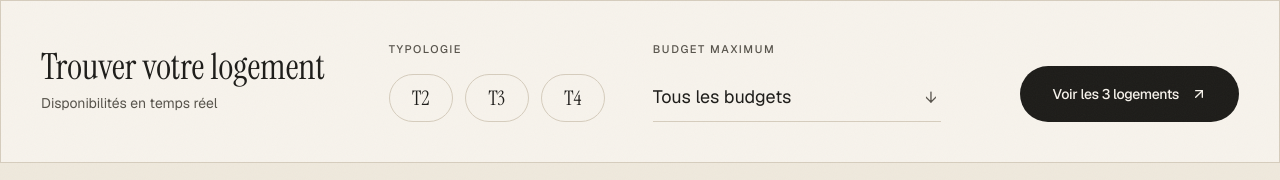
Test case: LotSearch › disables the search when nothing matches
Click the button "T4" at point(573, 98), box top-left (541, 74), bottom-right (605, 122)
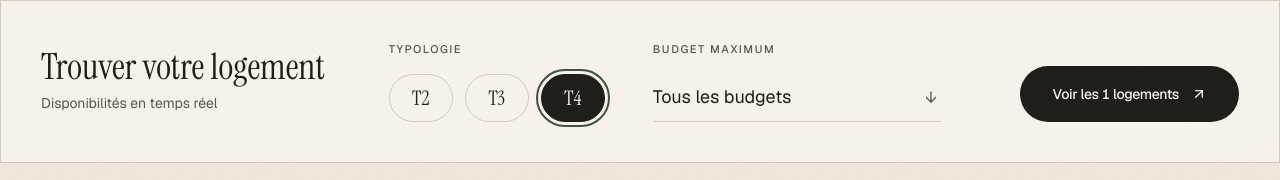
Select "Jusqu'à 200 000 €" in the dropdown labelled "Budget maximum" at point(797, 98), box top-left (653, 74), bottom-right (941, 122)
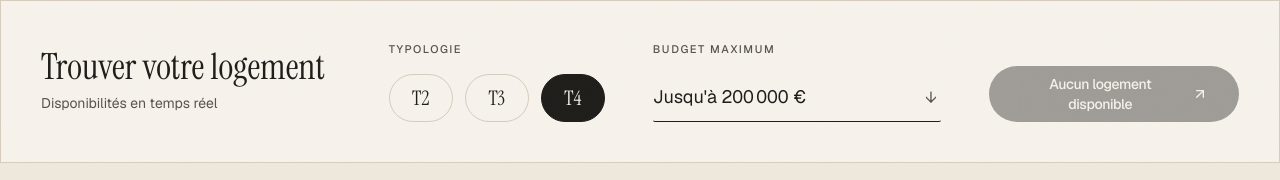
Result: the button "Aucun logement disponible" is disabled at top-left (989, 66), bottom-right (1239, 122)
